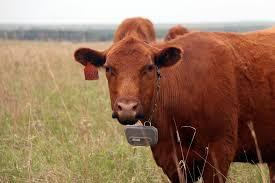cow: (75, 33, 275, 183)
